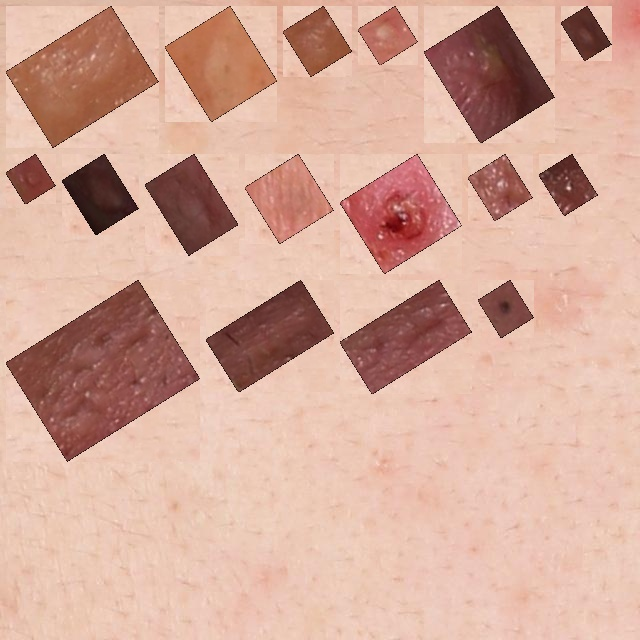hypertrophic_scar: (17, 291, 189, 450), (17, 17, 147, 136), (351, 291, 461, 383), (217, 291, 323, 381), (176, 17, 266, 110), (294, 17, 341, 65)
melasma: (256, 165, 322, 232)
nevus: (489, 291, 523, 326)
pustule: (435, 17, 543, 132), (351, 165, 451, 262), (73, 165, 127, 224), (479, 165, 521, 210), (369, 17, 407, 54), (550, 165, 586, 204), (572, 17, 600, 50), (17, 165, 44, 193)
